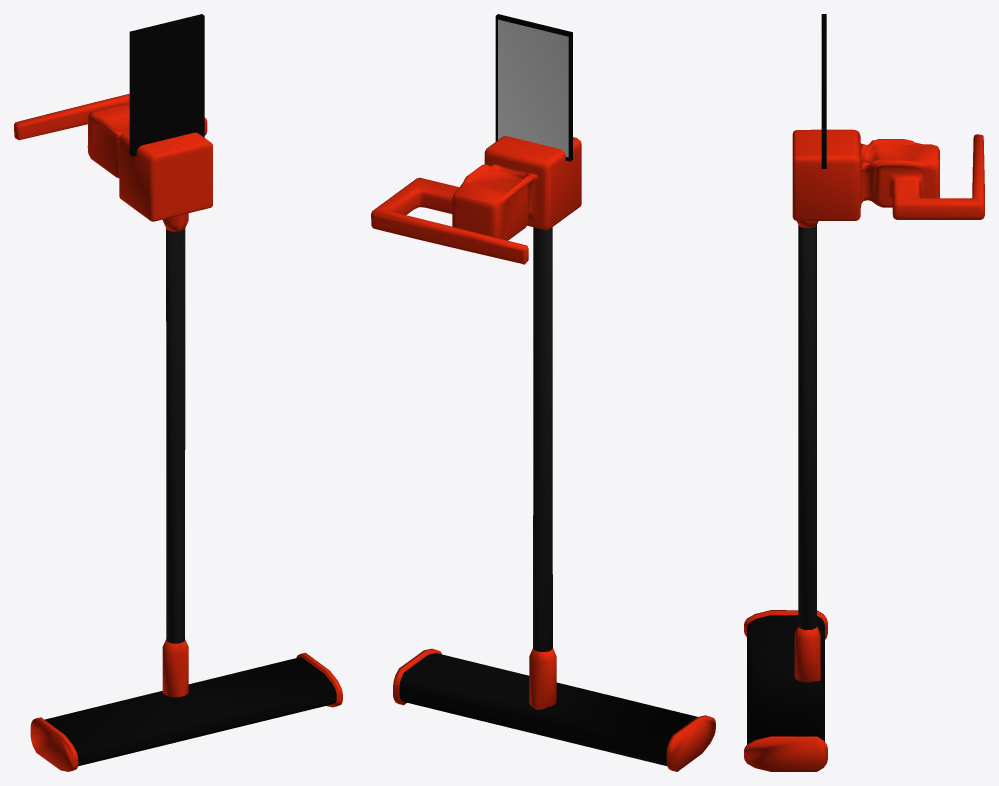
The model's file is pkvr_vacuum_cleaner.fbx.
3 renders of one model, left to right at view 1: azimuth 30°, elevation 25°; view 2: azimuth 150°, elevation 25°; view 3: azimuth 270°, elevation 25°, orthographic. The views are drawn at different scales.
Parts seen in each view (by area): view 1: Cube.003; view 2: Cube.003; view 3: Cube.003.
Boxes of the visible parts, bbox=[...] form: Cube.003: bbox=[14, 14, 342, 771]; Cube.003: bbox=[371, 14, 715, 771]; Cube.003: bbox=[744, 14, 984, 771].
Size of the model in its own units: 200 by 492 by 159.
